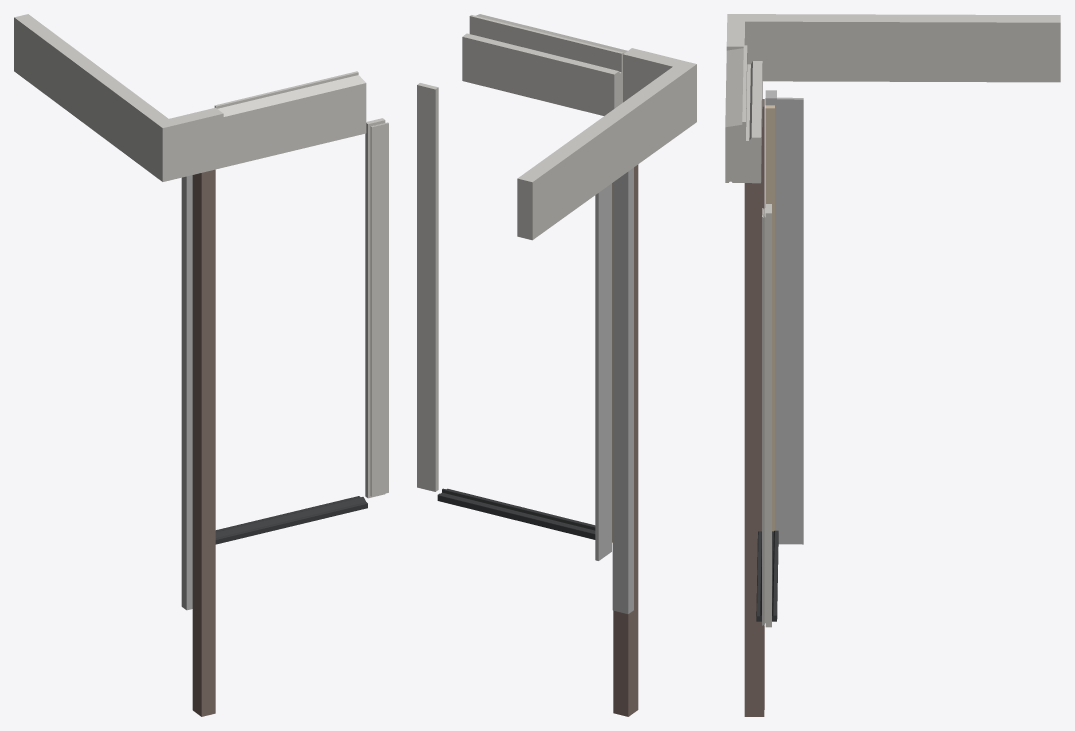
3 views of the same model, side by side, from view 1: azimuth 30°, elevation 25°; view 2: azimuth 150°, elevation 25°; view 3: azimuth 270°, elevation 25° (orthographic). The views are drawn at different scales.
Size of the model in its own units: 1.73 by 4.13 by 1.87.
